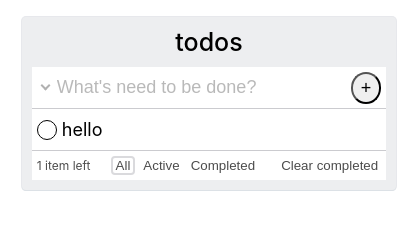
Test: App e2e test › new task should be added
In the field with placeholder "What's need to be done?": (187, 88) [32, 67, 341, 108], type "new task"
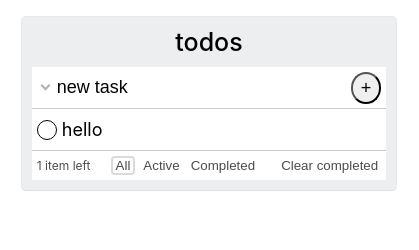
Click the button "+": click(367, 88) [351, 72, 382, 104]
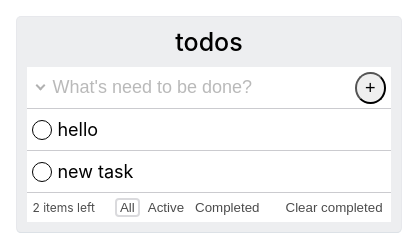
expect the text "new task" is shown: met, box [57, 162, 134, 182]
expect the number of elements with test id "task" is 2: met, box [27, 109, 390, 151]; [27, 151, 390, 193]
